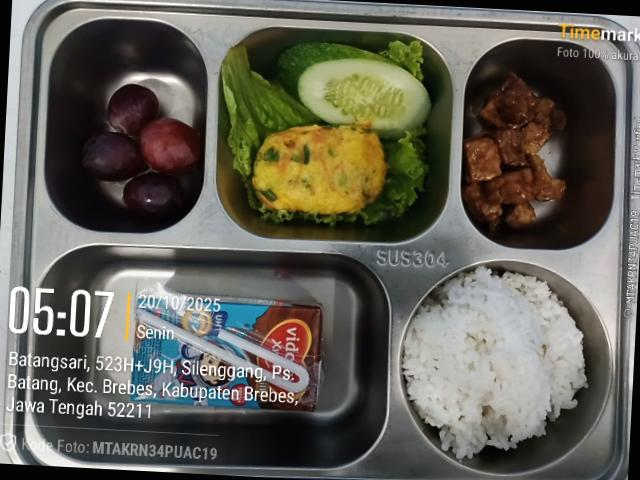buah: (83, 84, 200, 217)
nasi: (402, 267, 585, 458)
sayur: (222, 40, 432, 225)
susu: (126, 280, 322, 411)
tempe: (461, 71, 566, 232), (252, 125, 387, 215)
